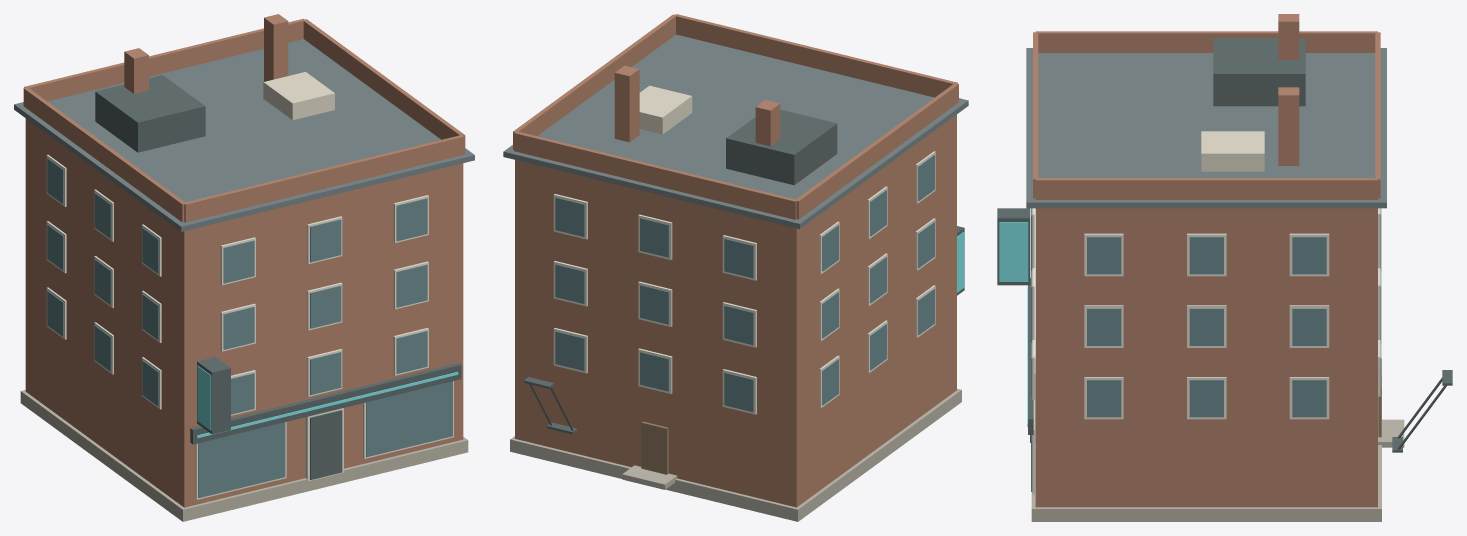
3 renders of one model, left to right at view 1: azimuth 30°, elevation 25°; view 2: azimuth 150°, elevation 25°; view 3: azimuth 270°, elevation 25°, orthographic. The views are drawn at different scales.
Size of the model in its own units: 13.9 by 16.44 by 17.3.
